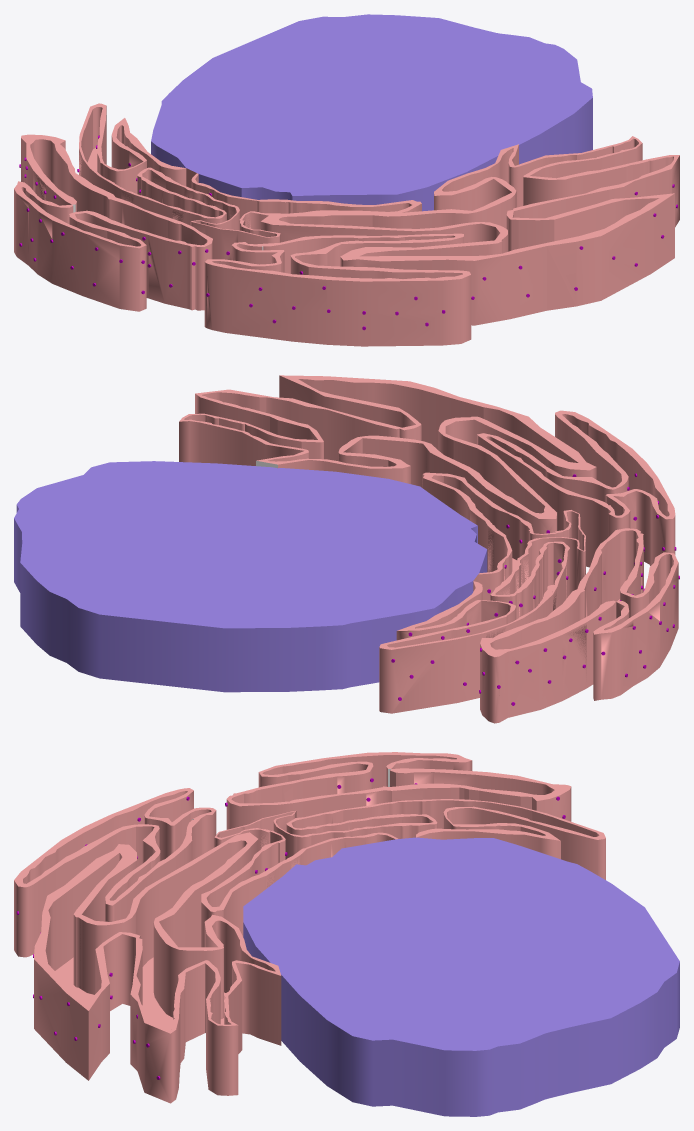
Rendered from ayy.fbx.
3 renders of one model, top to bottom at view 1: azimuth 30°, elevation 25°; view 2: azimuth 150°, elevation 25°; view 3: azimuth 270°, elevation 25°, orthographic. The views are drawn at different scales.
Visible parts, largest first — view 1: SketchUp.002, SketchUp.007, SketchUp.009, SketchUp.014, SketchUp.005, SketchUp.003, SketchUp.013, SketchUp.015; view 2: SketchUp.002, SketchUp.005, SketchUp.007, SketchUp.014, SketchUp.003, SketchUp.009, SketchUp.015, SketchUp.013; view 3: SketchUp.002, SketchUp.007, SketchUp.005, SketchUp.014, SketchUp.003, SketchUp.009, SketchUp.013, SketchUp.015.
Boxes of the visible parts, <box> form: SketchUp.002: <box>151,14,592,211</box>; SketchUp.007: <box>260,136,679,325</box>; SketchUp.009: <box>204,233,471,346</box>; SketchUp.014: <box>14,134,213,311</box>; SketchUp.005: <box>79,103,421,260</box>; SketchUp.003: <box>279,138,673,256</box>; SketchUp.013: <box>212,235,462,278</box>; SketchUp.015: <box>21,138,71,205</box>; SketchUp.002: <box>14,461,487,692</box>; SketchUp.005: <box>379,472,585,713</box>; SketchUp.007: <box>179,375,596,533</box>; SketchUp.014: <box>480,528,678,700</box>; SketchUp.003: <box>184,379,578,513</box>; SketchUp.009: <box>477,410,675,567</box>; SketchUp.015: <box>480,602,616,723</box>; SketchUp.013: <box>486,414,669,516</box>; SketchUp.002: <box>243,837,679,1116</box>; SketchUp.007: <box>34,832,281,1103</box>; SketchUp.005: <box>201,799,605,947</box>; SketchUp.014: <box>226,752,570,829</box>; SketchUp.003: <box>45,840,275,1030</box>; SketchUp.009: <box>14,788,216,957</box>; SketchUp.013: <box>23,791,211,900</box>; SketchUp.015: <box>536,787,571,821</box>.
Bounding box in the file's own units: 4028 × 447 × 3819.
